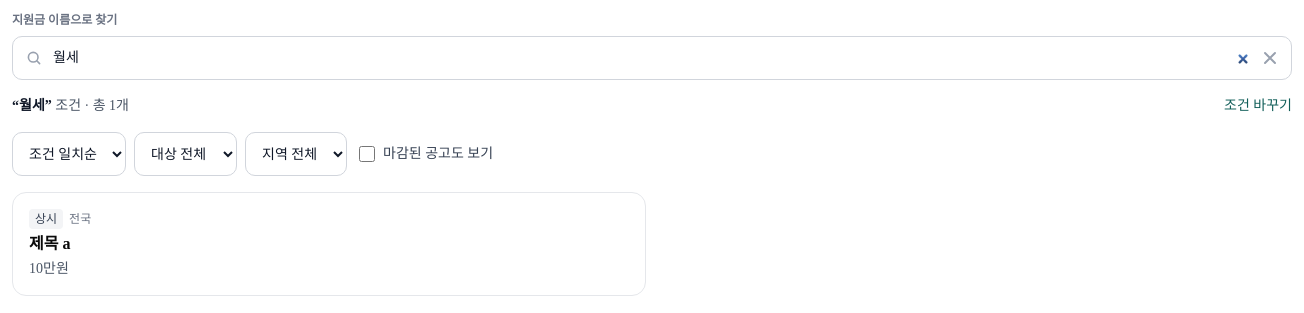
Test: DiagnosisResults › 검색어를 지워도 검색창이 남는다 (막다른 길 방지)
Expected: the text "“월세” 조건 · 총 1개" is shown, [12,96,129,116]
Expected: the search field labelled "지원금 이름으로 찾기" holds "월세", [12,36,1292,80]
Step 1. Click the button named "검색어 지우기" → [1270, 58], box [1252,40,1288,76]
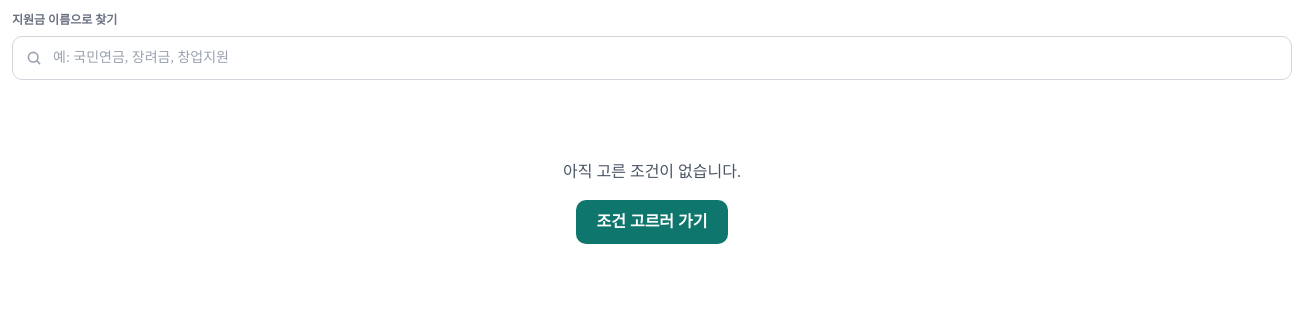
Now the text "아직 고른 조건이 없습니다." is shown, box [563,163,741,180]
Now the search field labelled "지원금 이름으로 찾기" is empty, box [12,36,1292,80]
